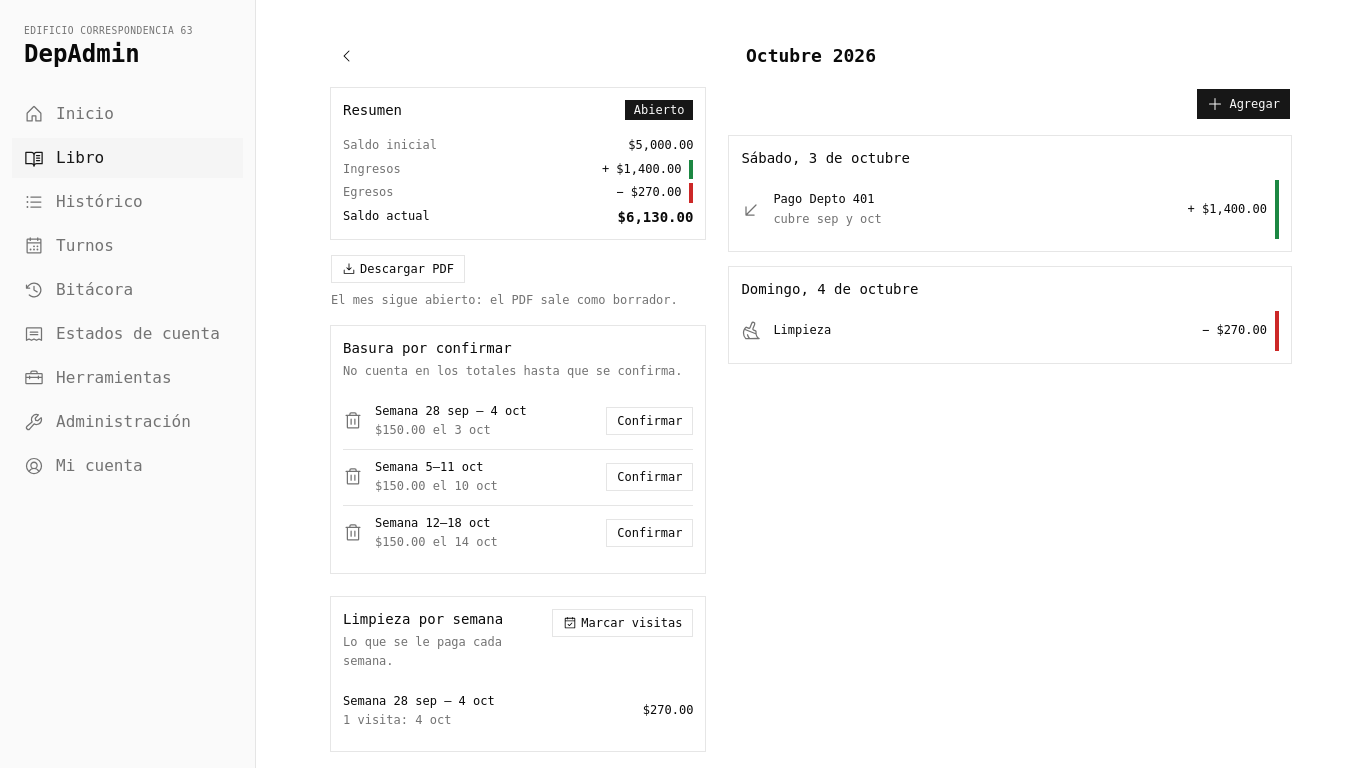
Scenario: BookPage › groups the types into income and expenses, with observations for the income
Click the button "Agregar": (1244, 104) [1196, 88, 1291, 120]
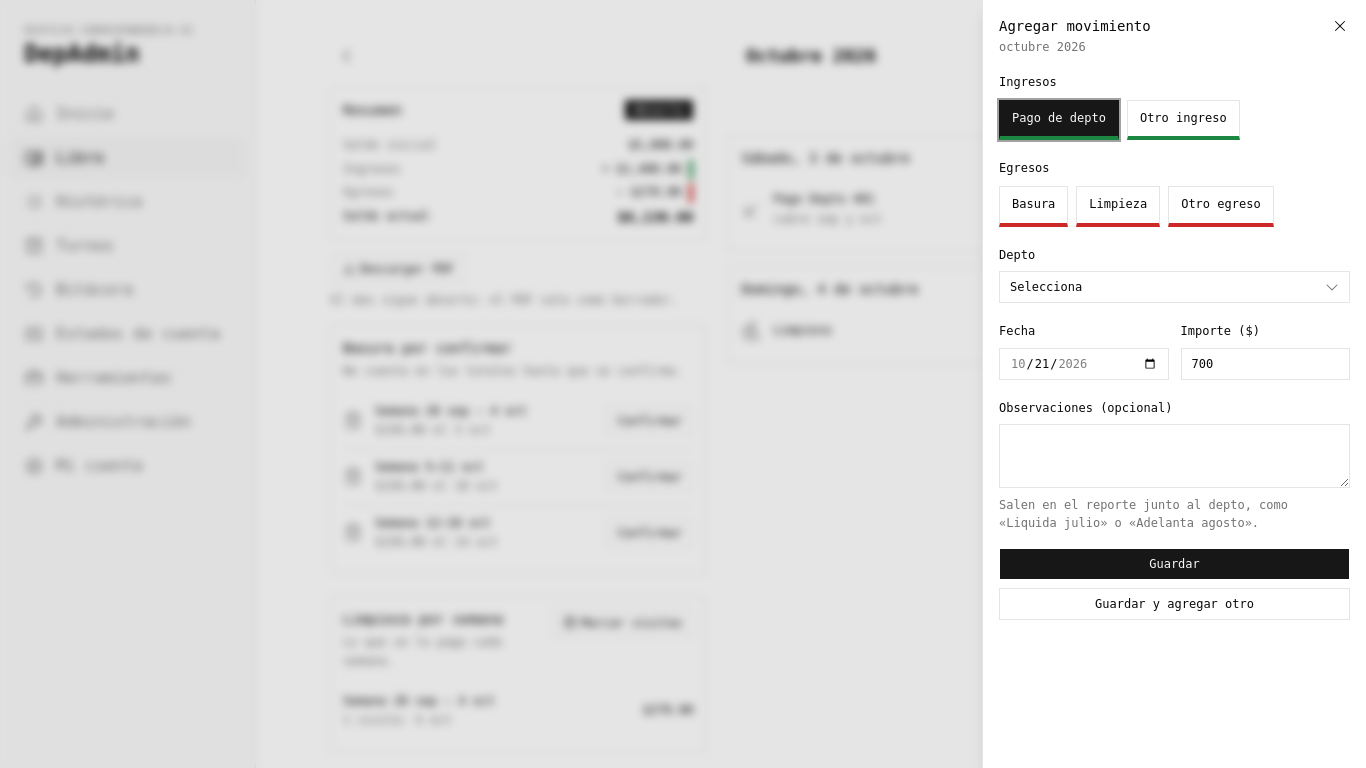
Select "Depto 302 · debe $700.00" in the dropdown labelled "Depto": (1174, 287) [999, 271, 1350, 303]
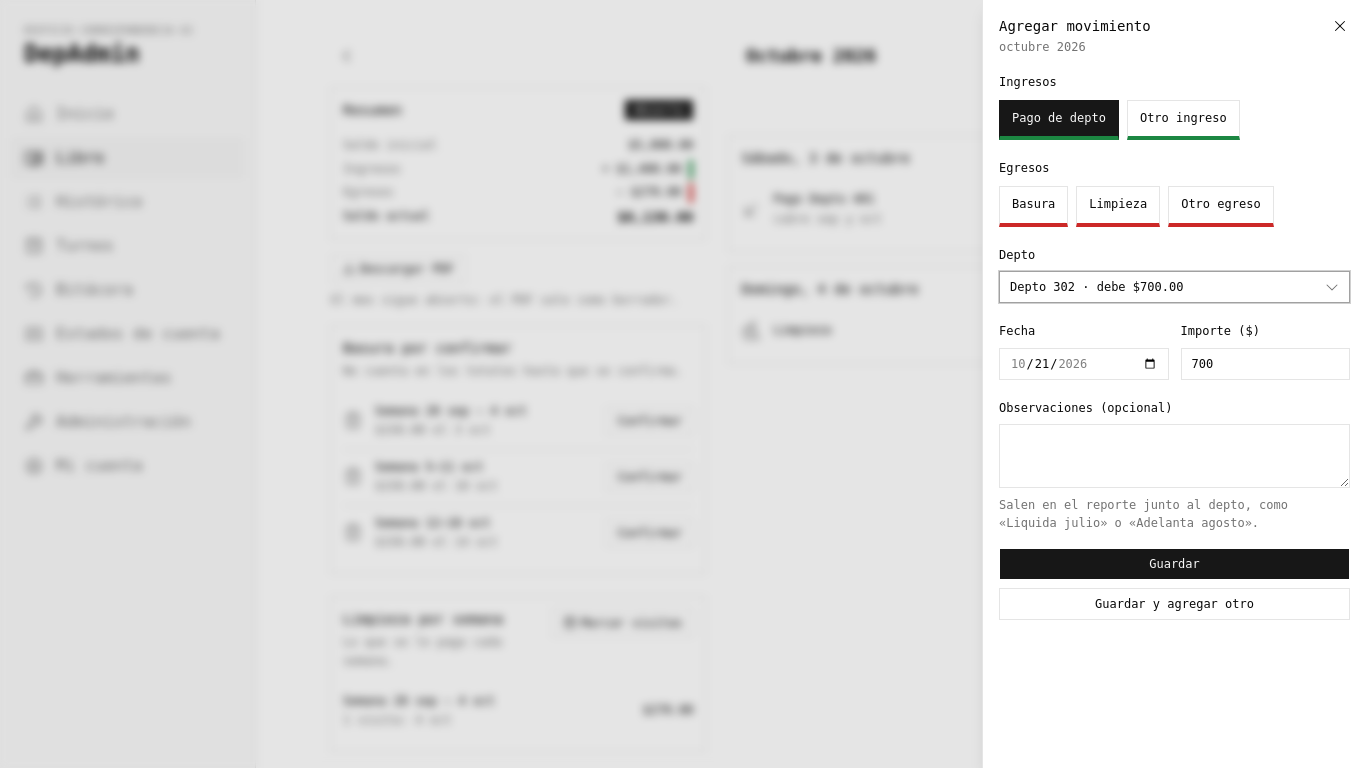
In the text box labelled "Observaciones (opcional)": (1174, 456) [999, 424, 1350, 488], type "Liquida septiembre"
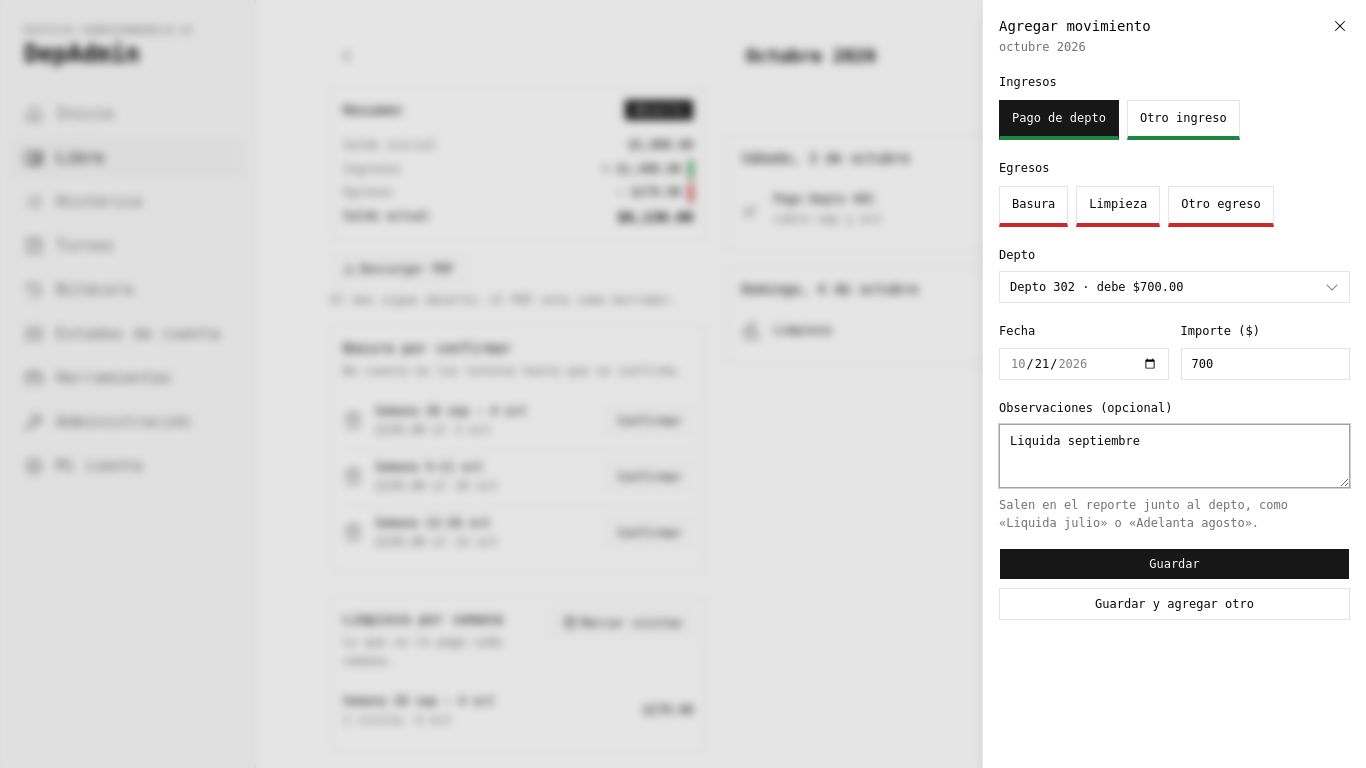
Click the button "Guardar": (1174, 564) [999, 548, 1350, 580]
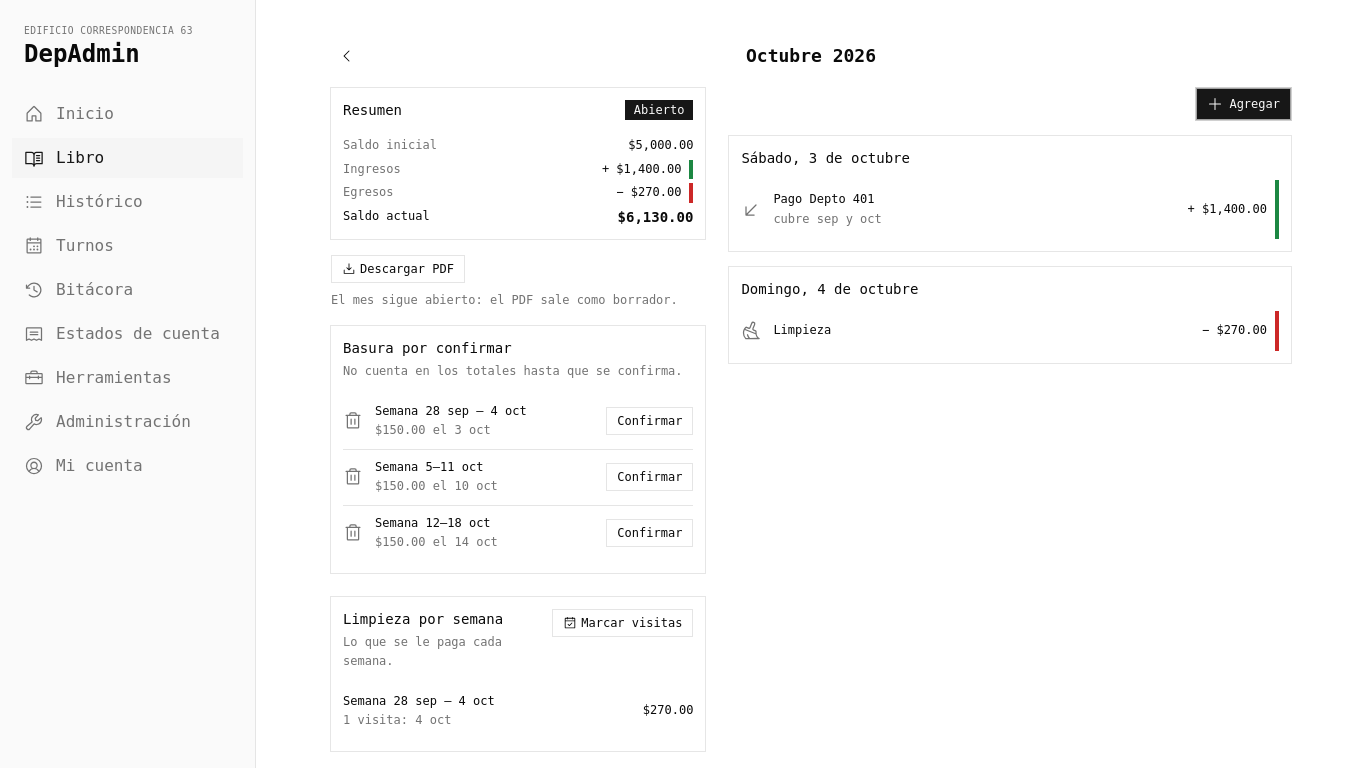
// An expense is described instead.
Click the button "Agregar": (1244, 104) [1196, 88, 1291, 120]
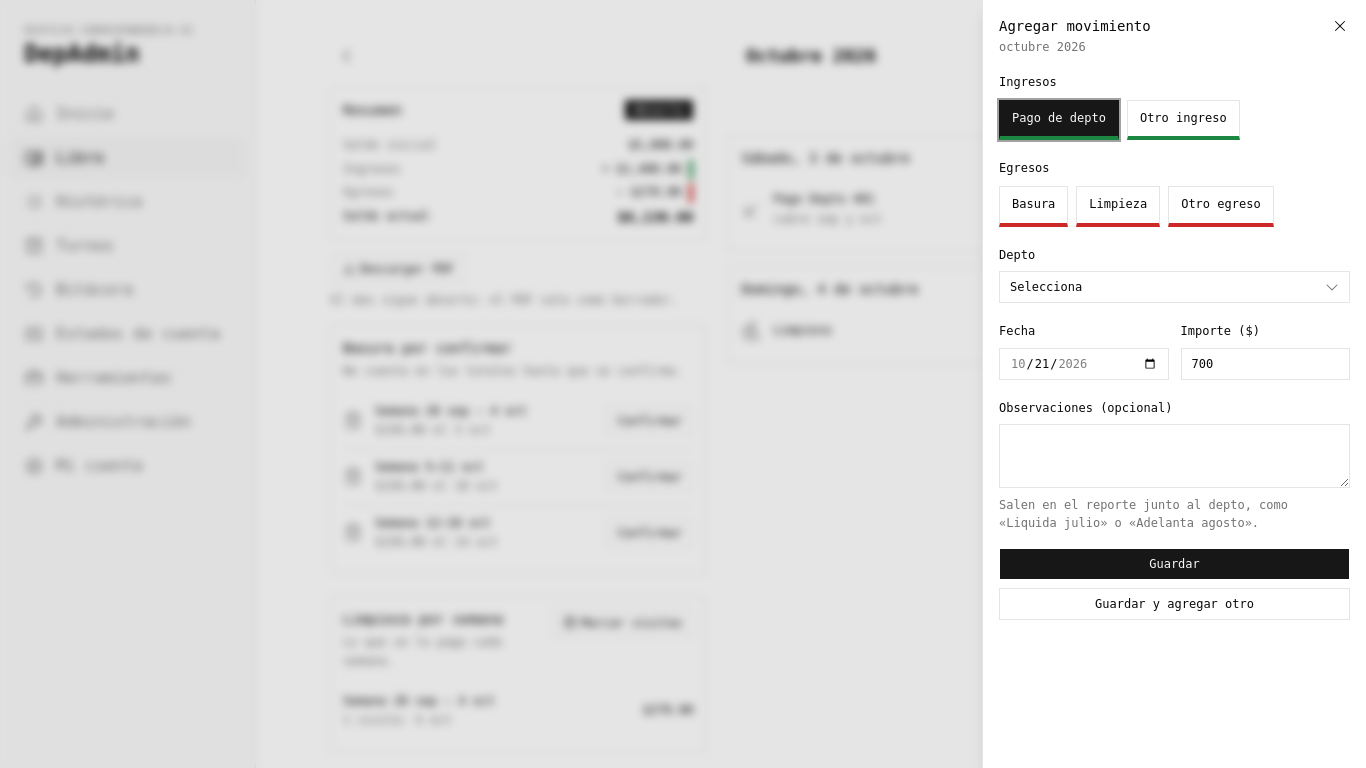
Click the radio button labelled "Otro egreso": (1221, 206) [1168, 186, 1274, 226]
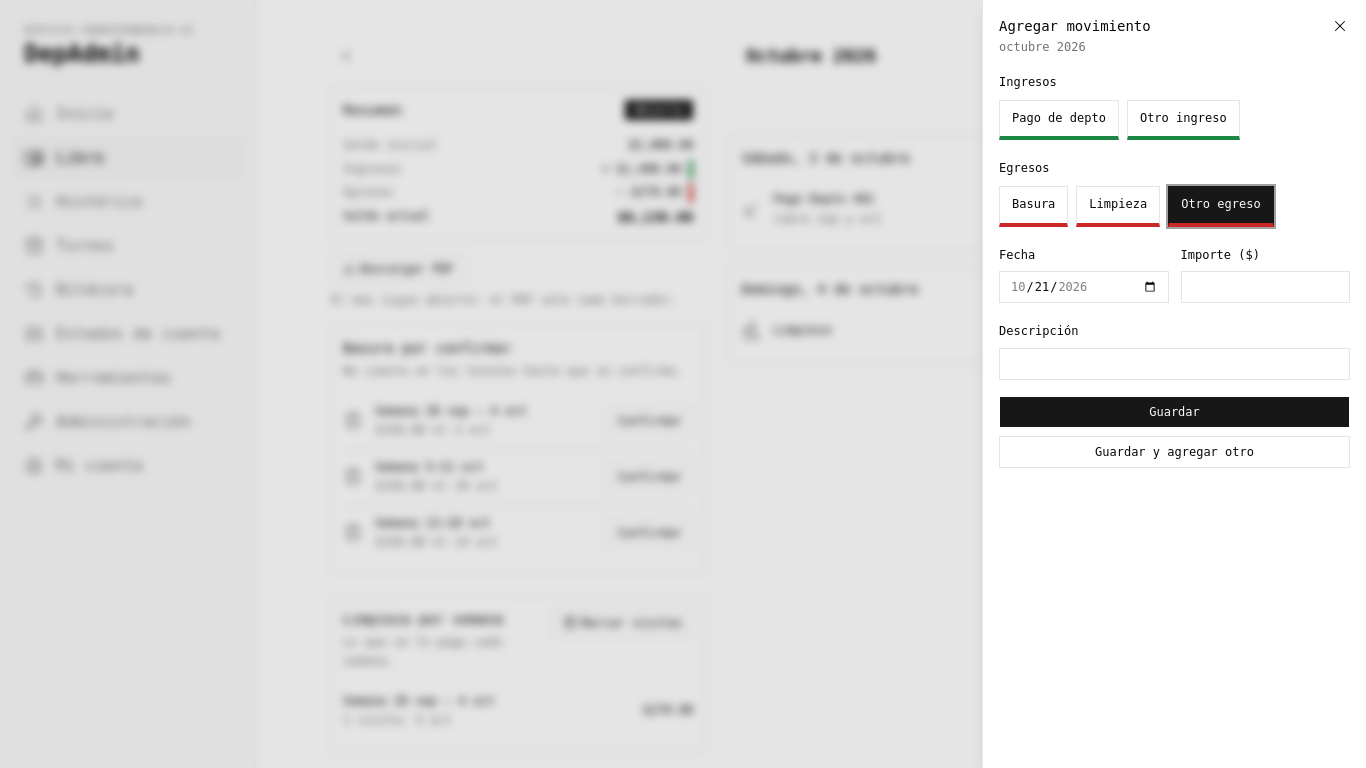
Result: the field labelled "Descripción" is shown at [999, 348, 1350, 380]
Result: the label labelled "Observaciones" is gone
